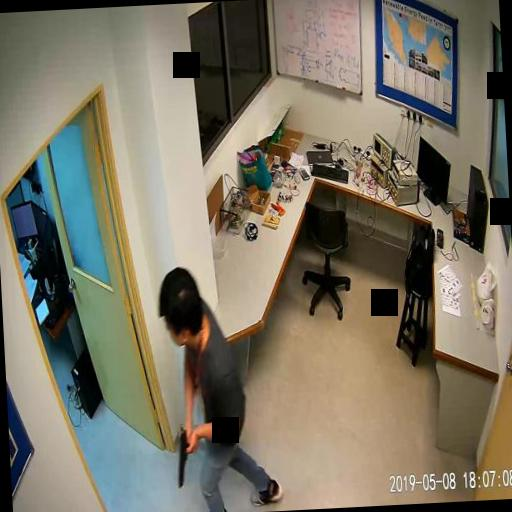Handgun: (174, 426, 197, 488)
